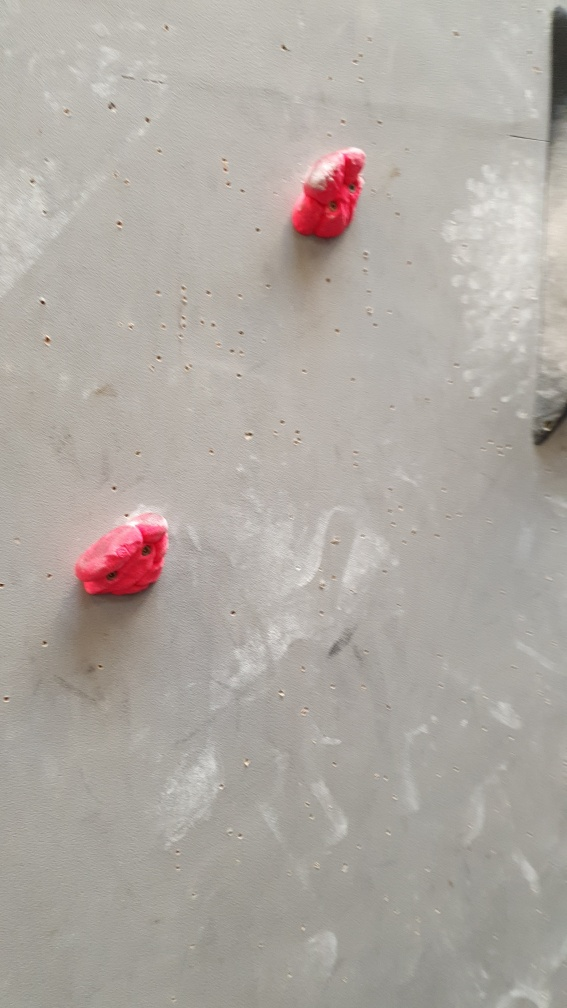Jug: (73, 512, 170, 597), (290, 148, 371, 243)
